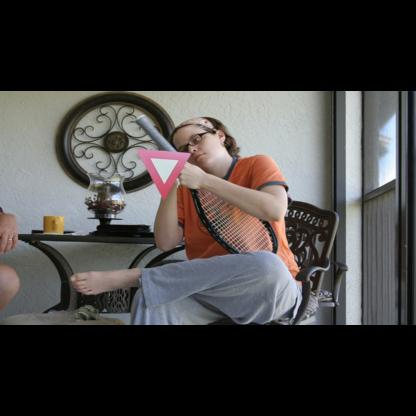R-2: (136, 148, 191, 201)
